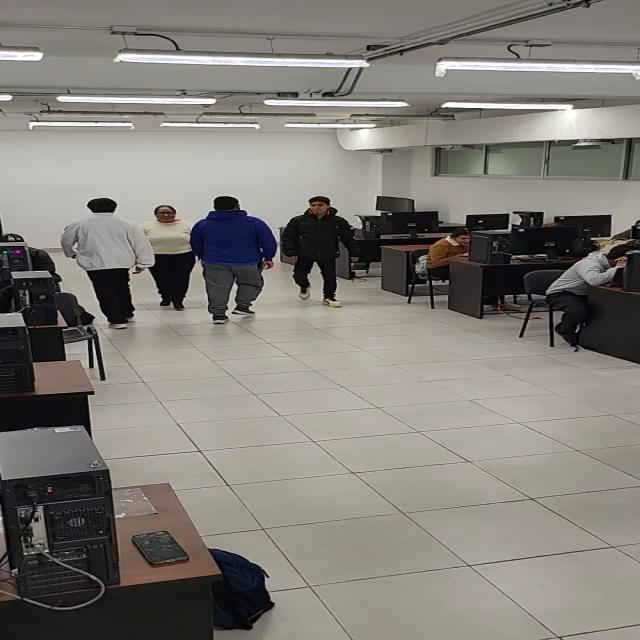Persona: (62, 195, 145, 332), (197, 194, 276, 327), (281, 194, 354, 309), (144, 202, 198, 317)
